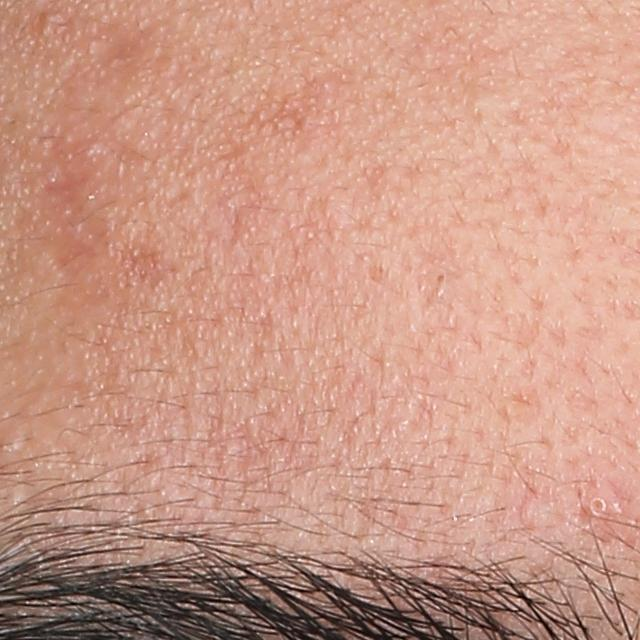comedo: (581, 483, 624, 532), (460, 83, 504, 120), (38, 8, 65, 33), (434, 270, 448, 283)
